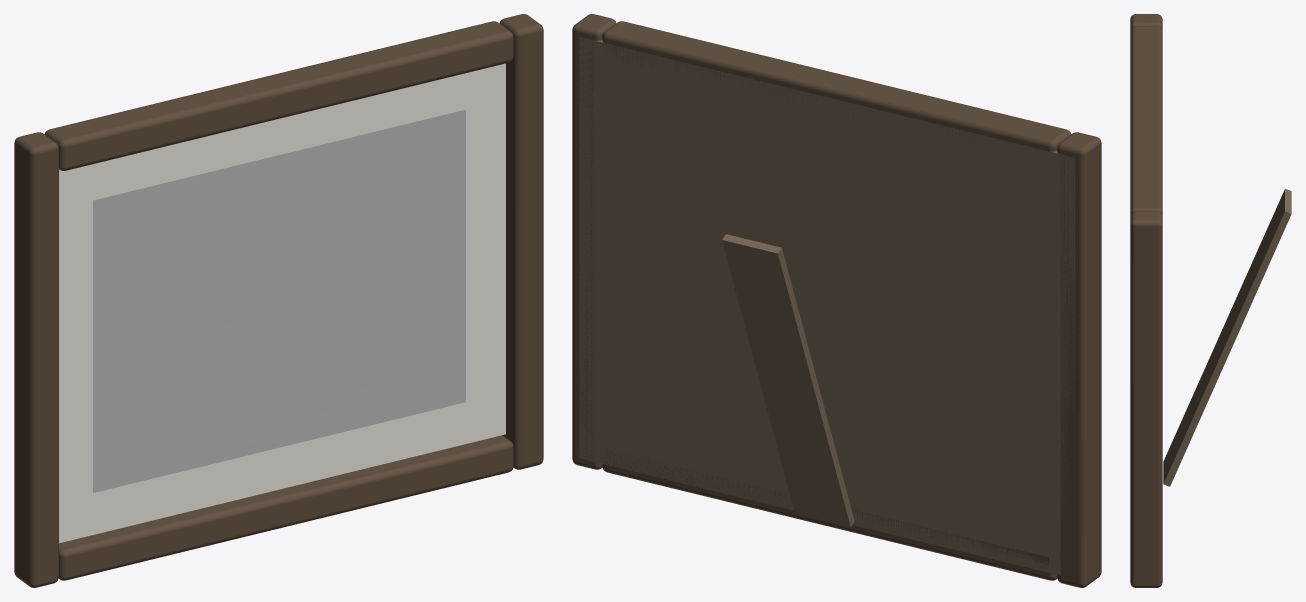
File: frame_landscape.glb
3 views of the same model, side by side, from view 1: azimuth 30°, elevation 25°; view 2: azimuth 150°, elevation 25°; view 3: azimuth 270°, elevation 25° (orthographic). The views are drawn at different scales.
Visible parts, largest first — view 1: Photo, MountBoard, Rail1, Side-1, Rail-1, Side1; view 2: Backing, Side-1, Strut, Rail1, Side1, Rail-1; view 3: Side1, Rail1, Strut, Side-1.
Boxes of the visible parts, x1,y1,x2,y2 form: Photo: [93, 109, 465, 492]; MountBoard: [59, 63, 505, 543]; Rail1: [44, 21, 513, 170]; Side-1: [14, 132, 58, 587]; Rail-1: [58, 435, 513, 580]; Side1: [499, 14, 543, 469]; Backing: [579, 37, 1075, 575]; Side-1: [1057, 132, 1101, 587]; Strut: [722, 234, 854, 527]; Rail1: [602, 21, 1071, 160]; Side1: [572, 14, 616, 469]; Rail-1: [602, 449, 1057, 580]; Side1: [1130, 211, 1162, 587]; Rail1: [1130, 26, 1162, 215]; Strut: [1163, 189, 1291, 486]; Side-1: [1130, 14, 1162, 30].
Size of the model in its own units: 0.276 by 0.226 by 0.0899.
